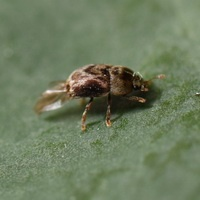insect: (34, 64, 150, 130)
